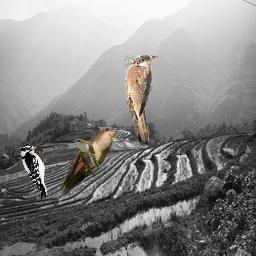Cuckoo: (58, 126, 120, 198), (125, 55, 158, 146), (71, 139, 99, 169)
Woodpecker: (20, 144, 47, 199)
